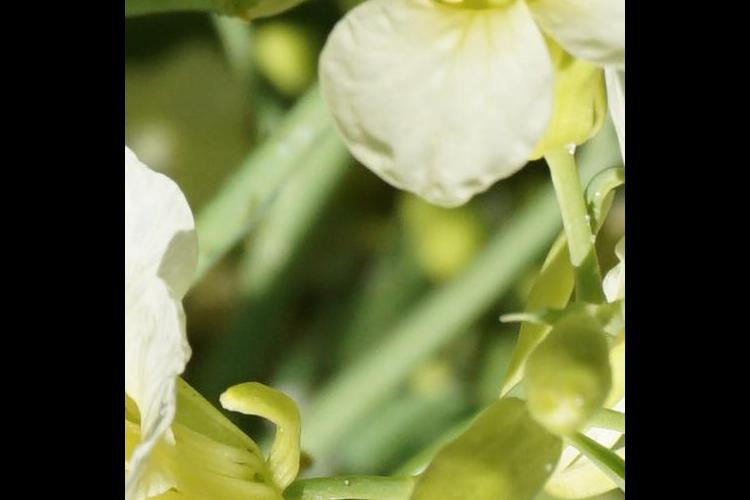bud: (379, 402, 563, 500), (507, 281, 610, 441)
white: (222, 1, 624, 193), (131, 151, 291, 500)
